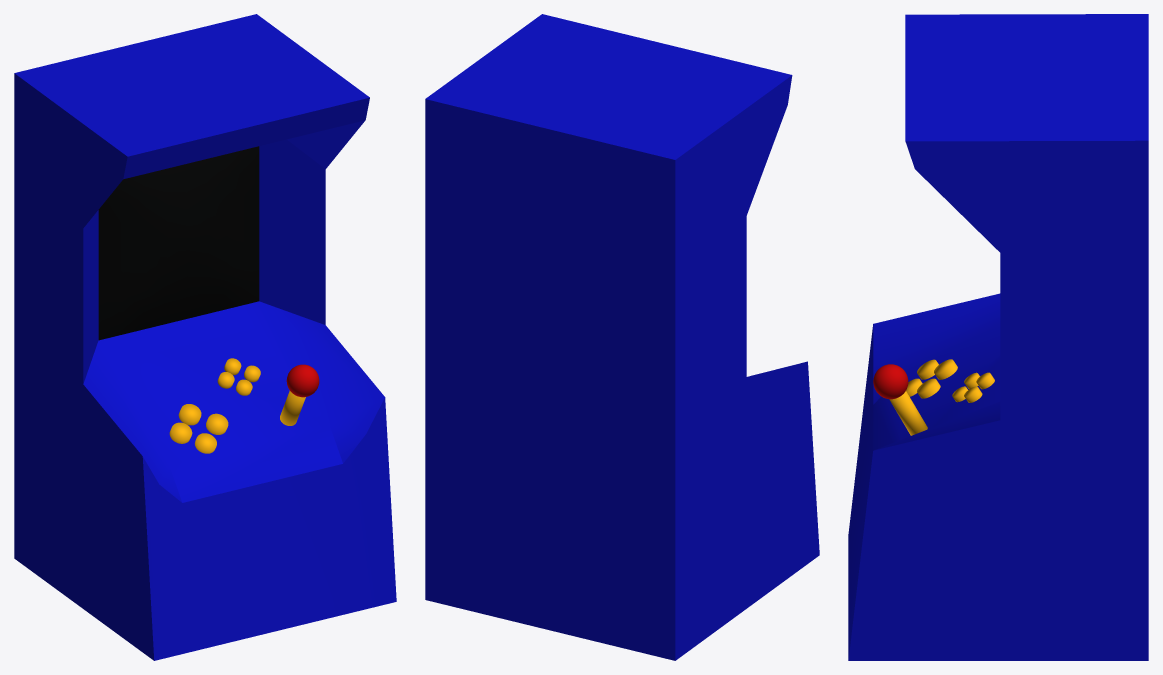
File: arcade.obj
3 renders of one model, left to right at view 1: azimuth 30°, elevation 25°; view 2: azimuth 150°, elevation 25°; view 3: azimuth 270°, elevation 25°, orthographic. The views are drawn at different scales.
Parts seen in each view (by area): view 1: Cube, Sphere; view 2: Cube; view 3: Cube, Sphere.
Part boxes in pixels (x1=…): Cube: x1=14, y1=14, x2=396, y2=660; Sphere: x1=169, y1=358, x2=319, y2=453; Cube: x1=425, y1=14, x2=819, y2=660; Cube: x1=848, y1=14, x2=1148, y2=660; Sphere: x1=873, y1=359, x2=994, y2=435.
Size of the model in its own units: 1.05 by 2 by 1.05.
